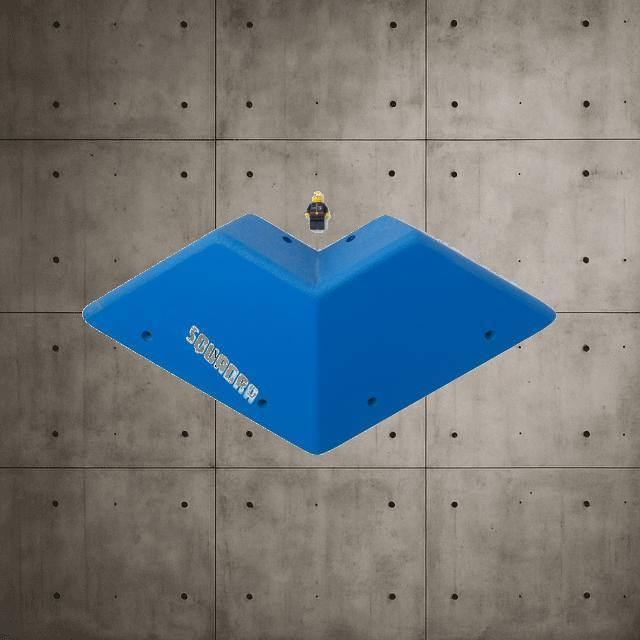Volume: (80, 210, 558, 454)
